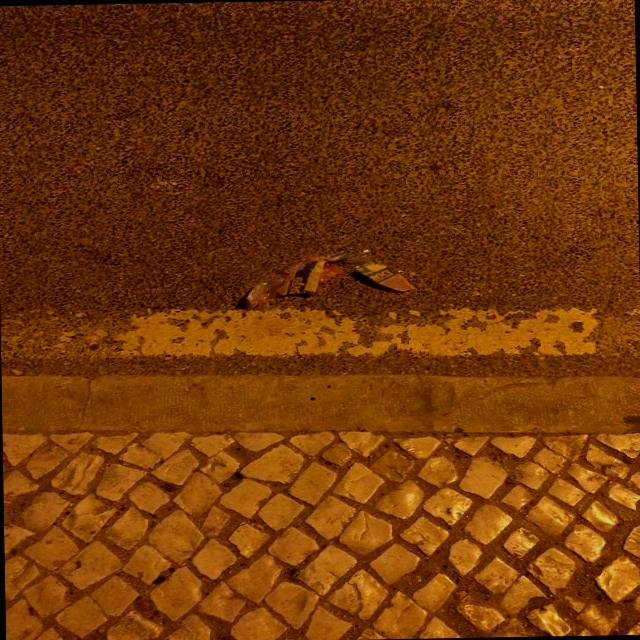Trash: (238, 246, 420, 308)
